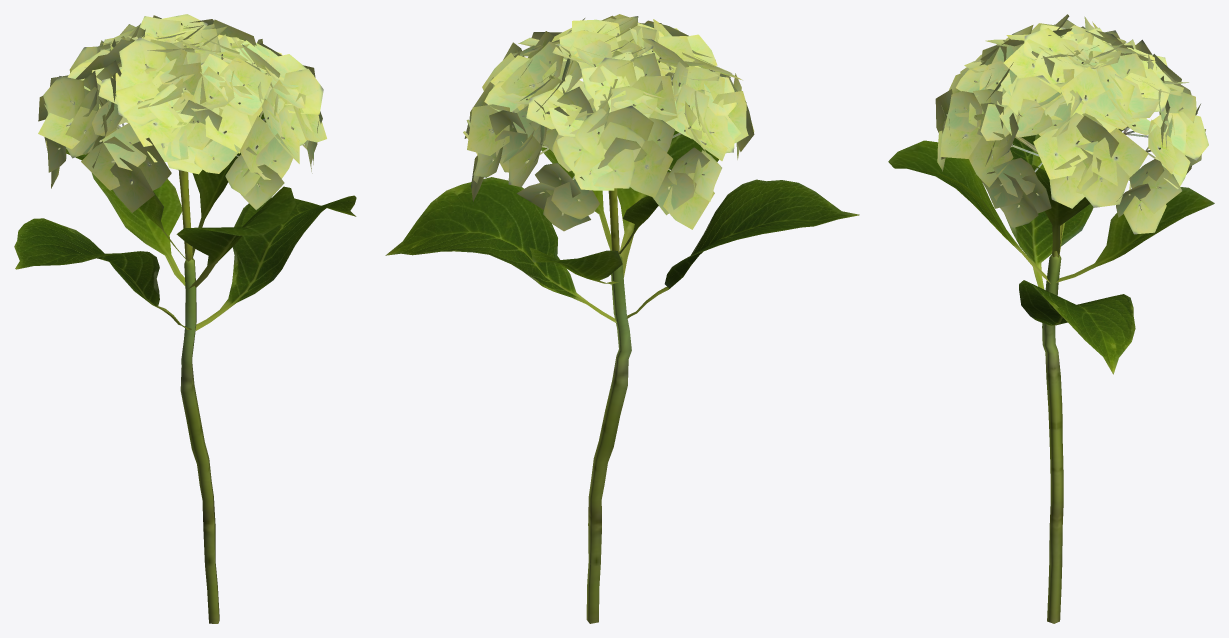
File: Hydrangea_OG_short_greenyellow.glb
The picture shows the model from 3 angles, left to right: view 1: azimuth 30°, elevation 25°; view 2: azimuth 150°, elevation 25°; view 3: azimuth 270°, elevation 25°; orthographic projection. The views are drawn at different scales.
Parts seen in each view (by area): view 1: Hydrangea; view 2: Hydrangea; view 3: Hydrangea.
Part boxes in pixels (x1,y1,x2,y2): Hydrangea: (14,14,356,623); Hydrangea: (385,14,859,623); Hydrangea: (888,14,1214,623).
Bounding box in the file's own units: 1.38 × 1.94 × 1.
Materials: 1 (1 with a texture image).
